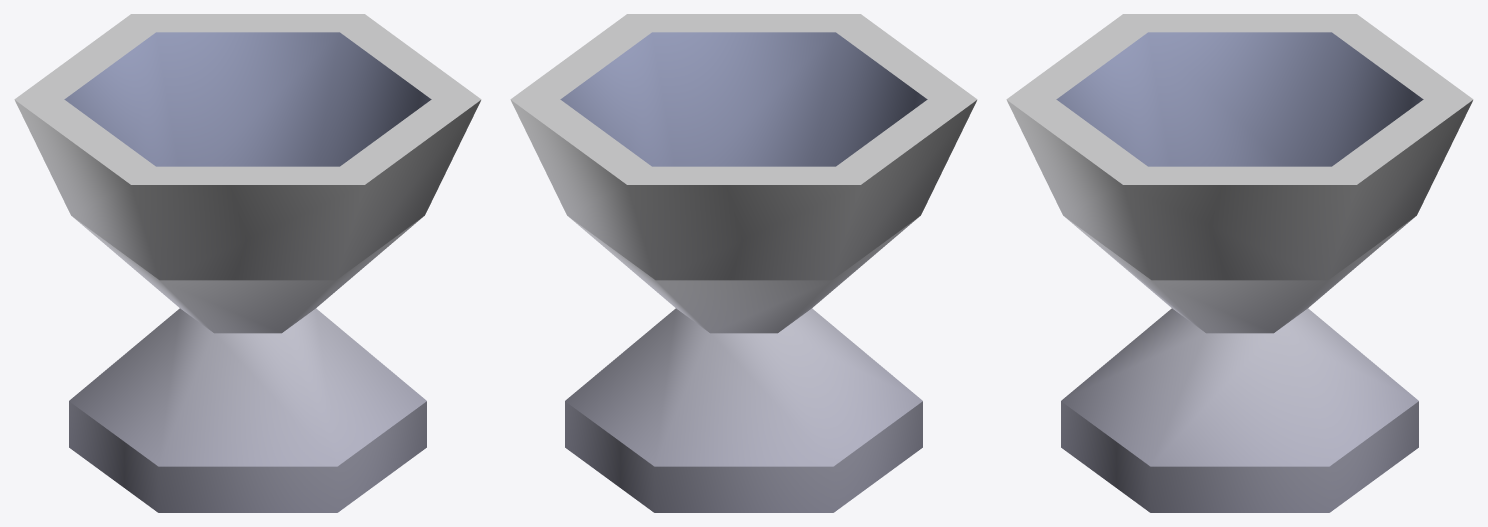
The model's file is egg-cup.glb.
3 views of the same model, side by side, from view 1: azimuth 30°, elevation 25°; view 2: azimuth 150°, elevation 25°; view 3: azimuth 270°, elevation 25° (orthographic).
Visible parts, largest first — view 1: egg-cup; view 2: egg-cup; view 3: egg-cup.
Boxes of the visible parts, x1,y1,x2,y2 form: egg-cup: (14, 14, 481, 512); egg-cup: (510, 14, 977, 512); egg-cup: (1006, 14, 1473, 512).
Size of the model in its own units: 0.1581 by 0.15 by 0.1826.
